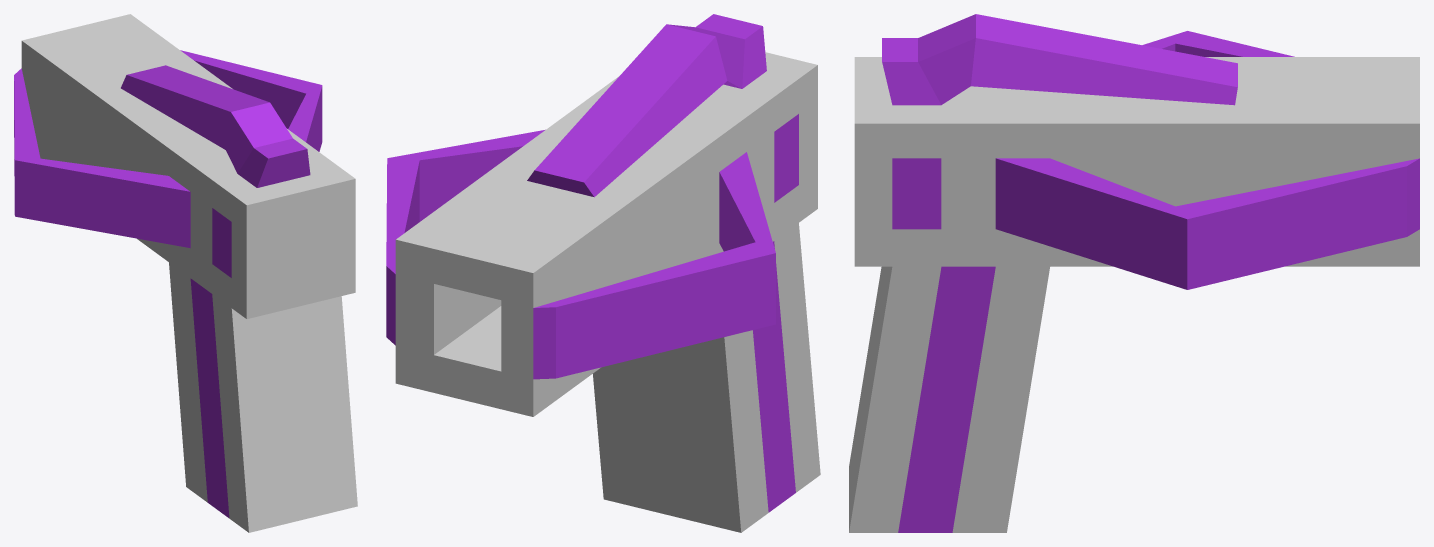
File: gun4.fbx
The picture shows the model from 3 angles, left to right: view 1: azimuth 30°, elevation 25°; view 2: azimuth 150°, elevation 25°; view 3: azimuth 270°, elevation 25°; orthographic projection. The views are drawn at different scales.
Parts seen in each view (by area): view 1: Cube; view 2: Cube; view 3: Cube.
Part boxes in pixels (x1,y1,x2,y2): Cube: [14, 14, 357, 532]; Cube: [386, 14, 820, 532]; Cube: [849, 14, 1419, 532].
Size of the model in its own units: 565 by 660 by 723.
